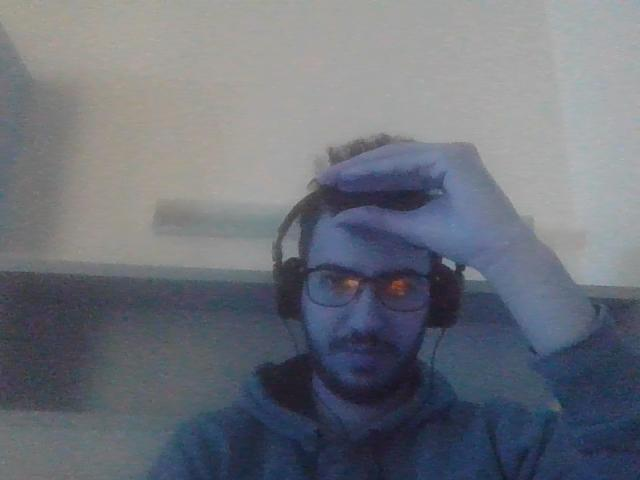no: (321, 137, 511, 263)
